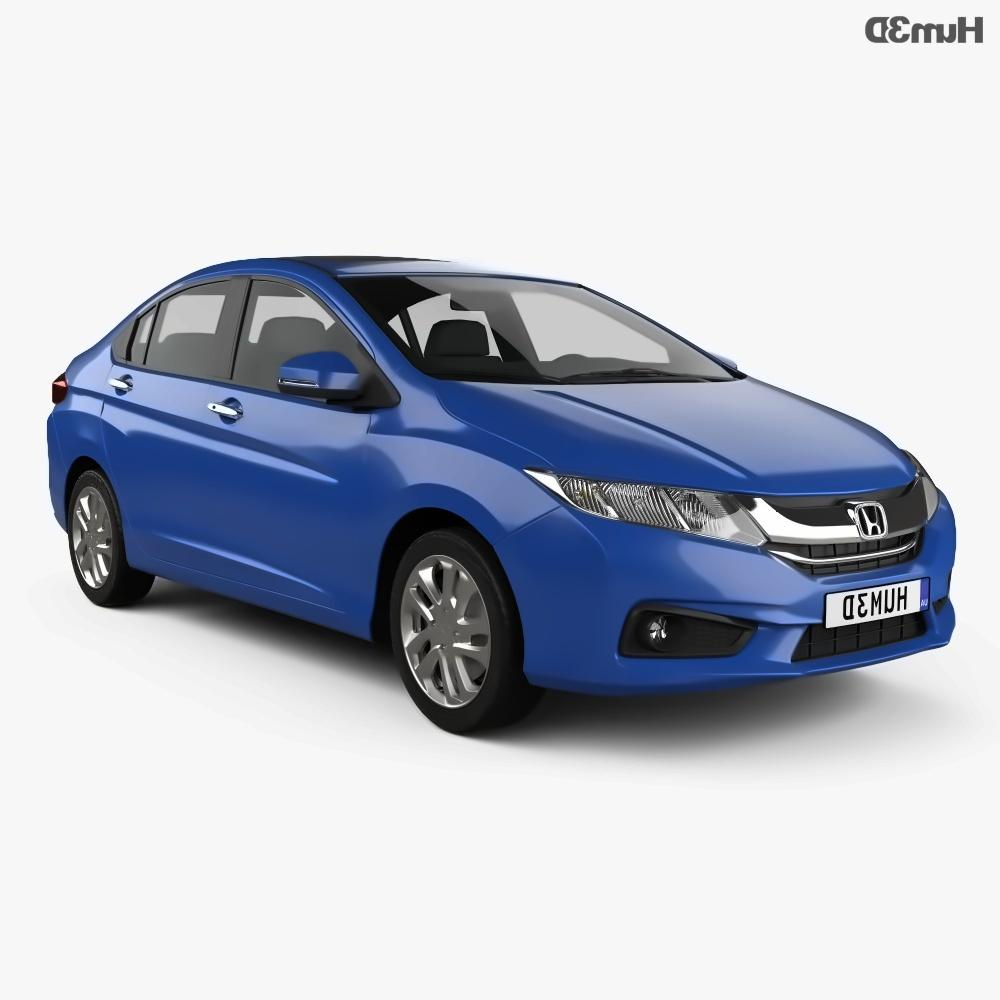Car hood: (435, 369, 913, 500)
Driver-s door - -F-R-: (192, 245, 395, 617)
Fender - -F-R-: (347, 383, 552, 655)
Fender - -R-R-: (49, 304, 129, 535)
Front bumper: (494, 495, 970, 705), (479, 501, 974, 698)
Headlight - -R-: (522, 469, 768, 560)
Passenger-s door - -R-R-: (89, 249, 242, 612)
Side bumper - -R-: (121, 500, 374, 657)
Side mirror - -R-: (279, 345, 372, 415)
